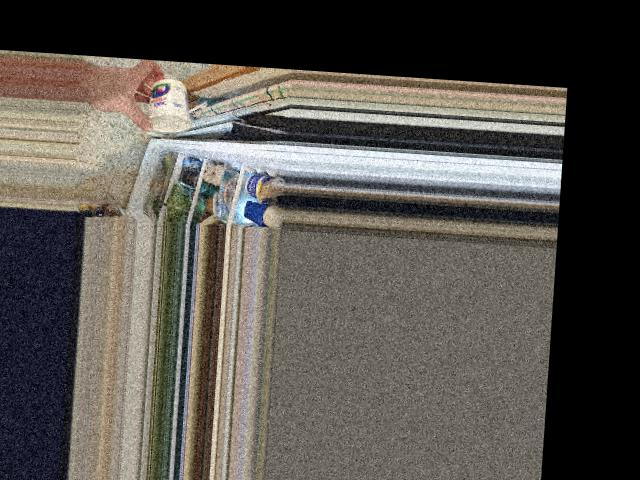cotage: (135, 71, 196, 138)
